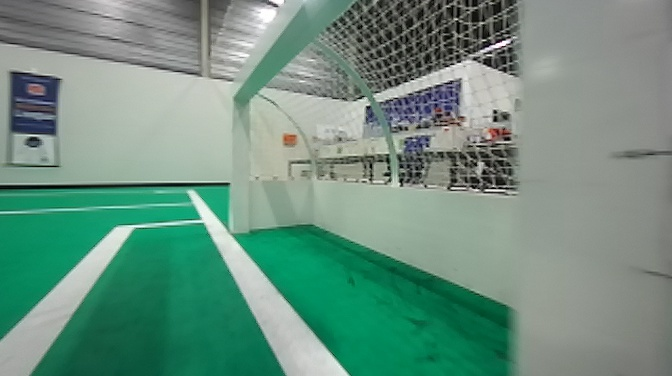goalpost: (512, 1, 667, 376), (226, 91, 252, 237)
